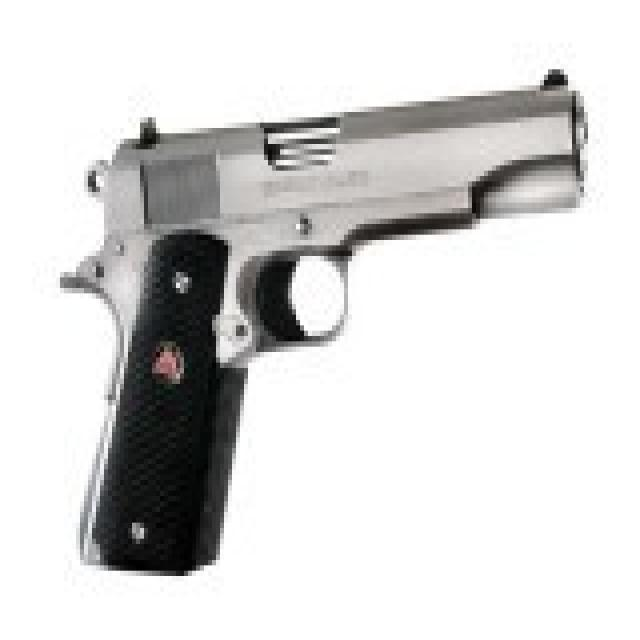Gun: (63, 47, 600, 604)
